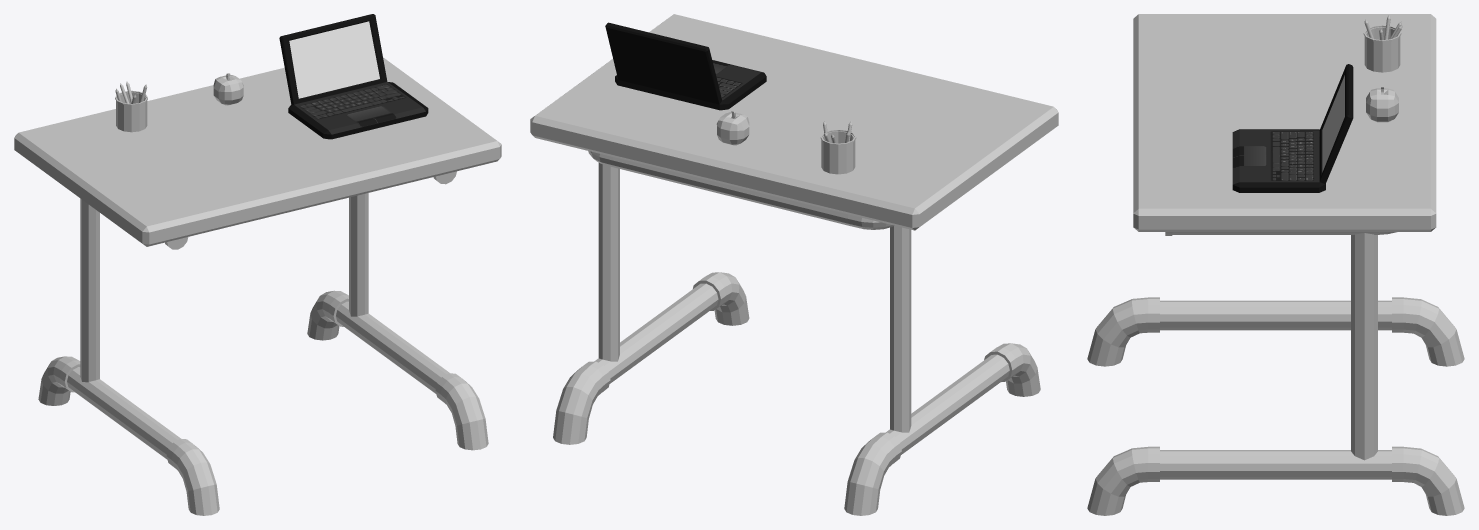
Rendered from MesaProfessor.fbx.
The picture shows the model from 3 angles, left to right: view 1: azimuth 30°, elevation 25°; view 2: azimuth 150°, elevation 25°; view 3: azimuth 270°, elevation 25°; orthographic projection. The views are drawn at different scales.
Visible parts, largest first — view 1: MesaProfessor; view 2: MesaProfessor; view 3: MesaProfessor.
Part boxes in pixels (left/top/right/bottom): MesaProfessor: left=14, top=14, right=501, bottom=515; MesaProfessor: left=530, top=14, right=1058, bottom=515; MesaProfessor: left=1087, top=14, right=1464, bottom=515.
Bounding box in the file's own units: 126 × 117 × 101.
